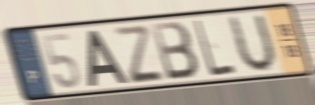5: (38, 30, 82, 90)
A: (87, 28, 130, 89)
B: (149, 19, 202, 83)
L: (192, 17, 239, 78)
U: (227, 11, 278, 76)
Z: (110, 23, 167, 86)
